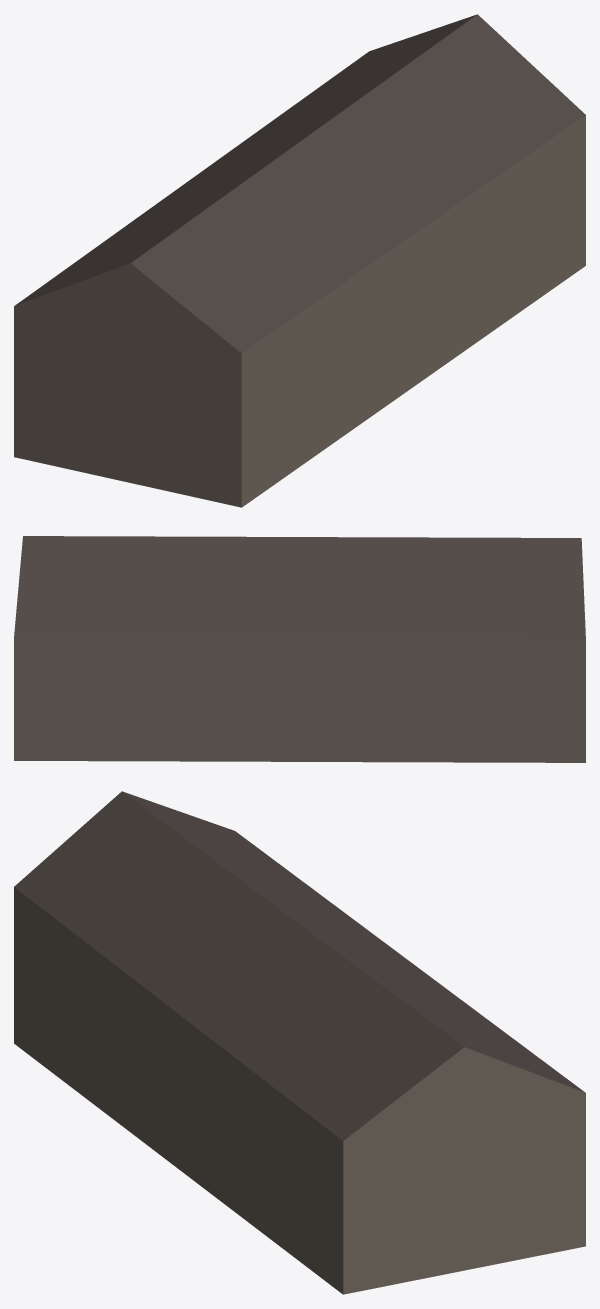
3 views of the same model, one above another, from view 1: azimuth 30°, elevation 25°; view 2: azimuth 150°, elevation 25°; view 3: azimuth 270°, elevation 25° (orthographic). The views are drawn at different scales.
Parts seen in each view (by area): view 1: HP-w1512359817; view 2: HP-w1512359817; view 3: HP-w1512359817.
Boxes of the visible parts, box(x1,y1,x2,y2) form: HP-w1512359817: box(14, 14, 585, 507); HP-w1512359817: box(14, 536, 585, 762); HP-w1512359817: box(14, 791, 585, 1294).
Size of the model in its own units: 26.01 by 8.74 by 20.27.
